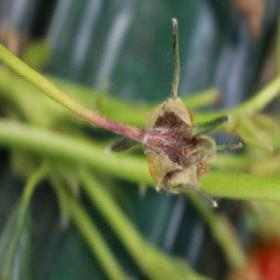Gray Mold: (107, 71, 245, 208)
